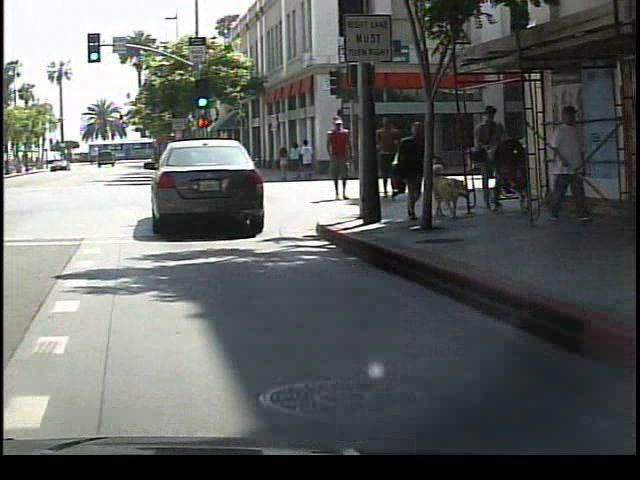person: (373, 107, 409, 205), (326, 114, 364, 204)
